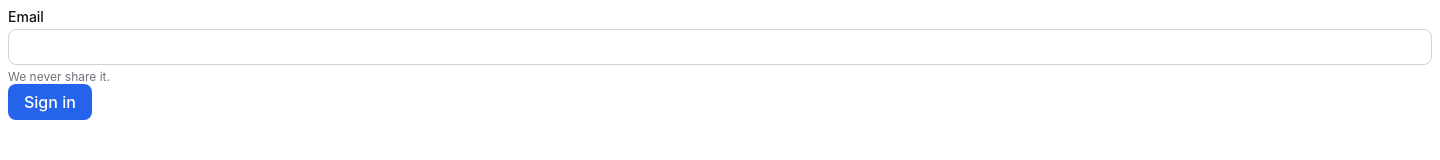
Scenario: FormField › shows errors after a submit attempt without touching the field
The image size is (1440, 160).
Click the button "Sign in": (50, 102) [8,84,92,120]
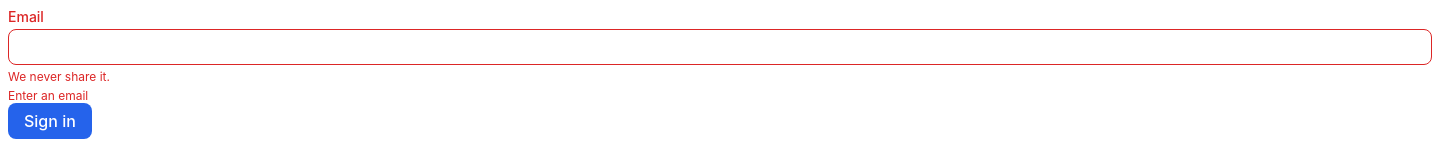
Expected: the text "Enter an email" is shown, [8,88,88,103]
